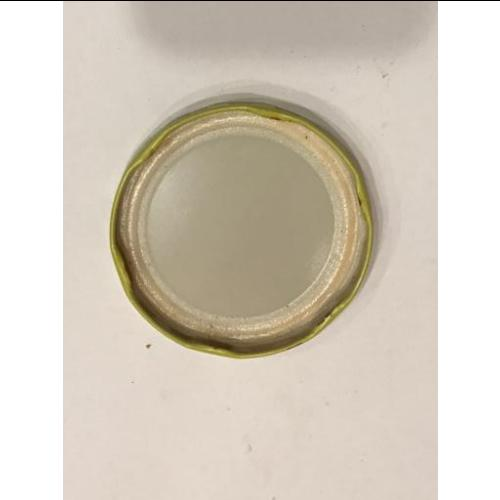metal: (109, 102, 374, 358)
